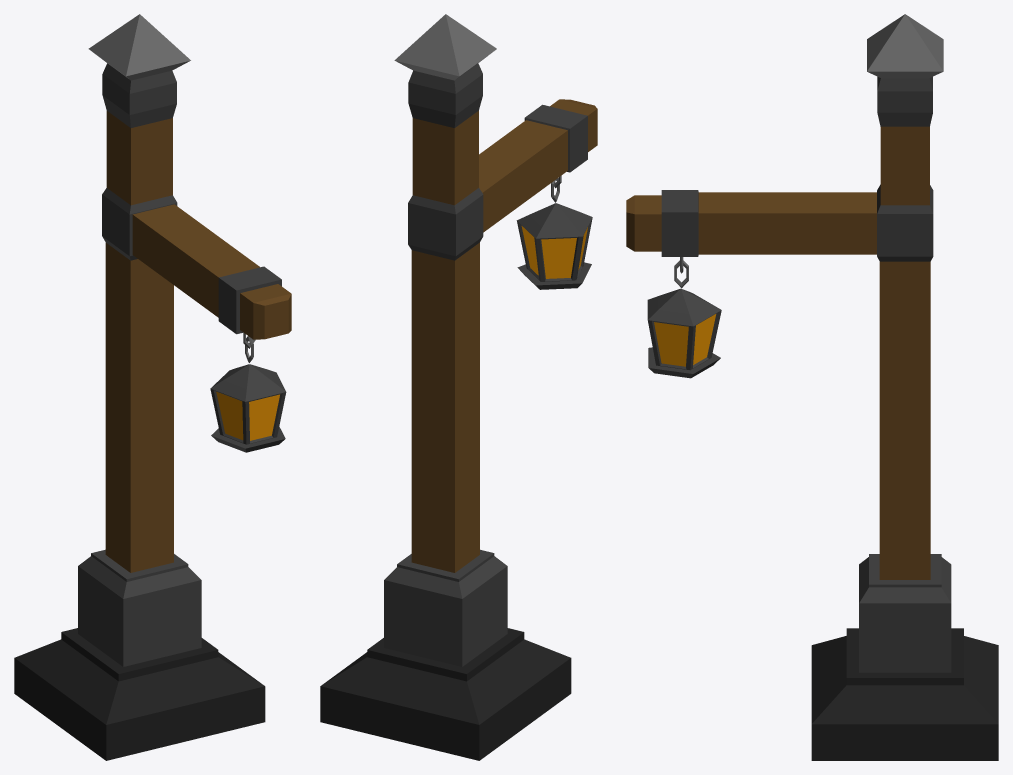
The model's file is lampPost.fbx.
3 views of the same model, side by side, from view 1: azimuth 30°, elevation 25°; view 2: azimuth 150°, elevation 25°; view 3: azimuth 270°, elevation 25° (orthographic).
Parts seen in each view (by area): view 1: lampPost; view 2: lampPost; view 3: lampPost.
Part boxes in pixels (x1,y1,x2,y2): lampPost: (14,14,291,760); lampPost: (320,14,597,760); lampPost: (626,14,998,760).
Bounding box in the file's own units: 200 × 834 × 398.
1 material, 1 textured.
